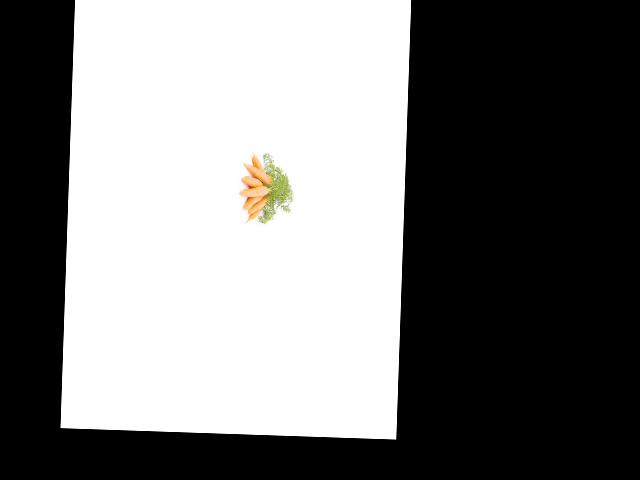carrot: (248, 154, 266, 177)
